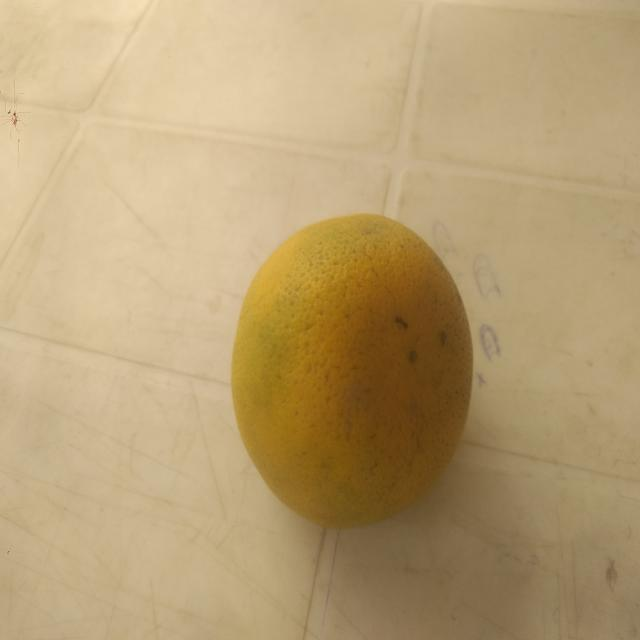Ripe orange: (212, 189, 506, 558)
